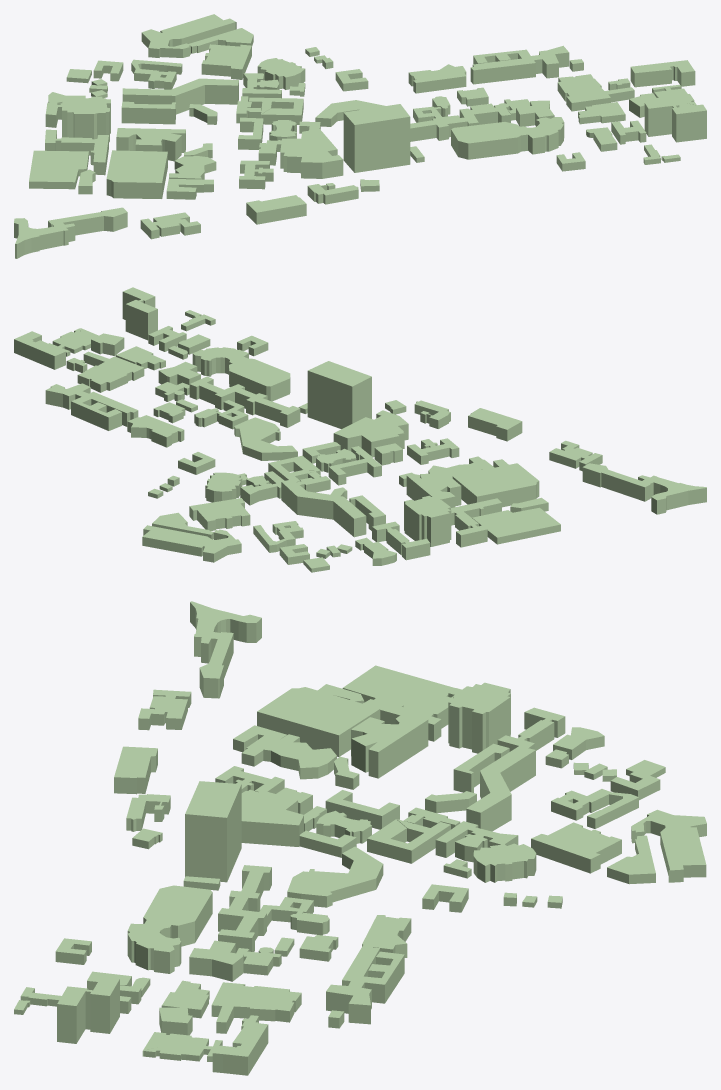
The picture shows the model from 3 angles, top to bottom: view 1: azimuth 30°, elevation 25°; view 2: azimuth 150°, elevation 25°; view 3: azimuth 270°, elevation 25°; orthographic projection. The views are drawn at different scales.
Parts seen in each view (by area): view 1: Maximum Height; view 2: Maximum Height; view 3: Maximum Height.
Part boxes in pixels (left/top/right/bottom): Maximum Height: left=14, top=14, right=706, bottom=258; Maximum Height: left=14, top=287, right=706, bottom=572; Maximum Height: left=14, top=601, right=706, bottom=1075.
Bounding box in the file's own units: 1028 × 68 × 662.
